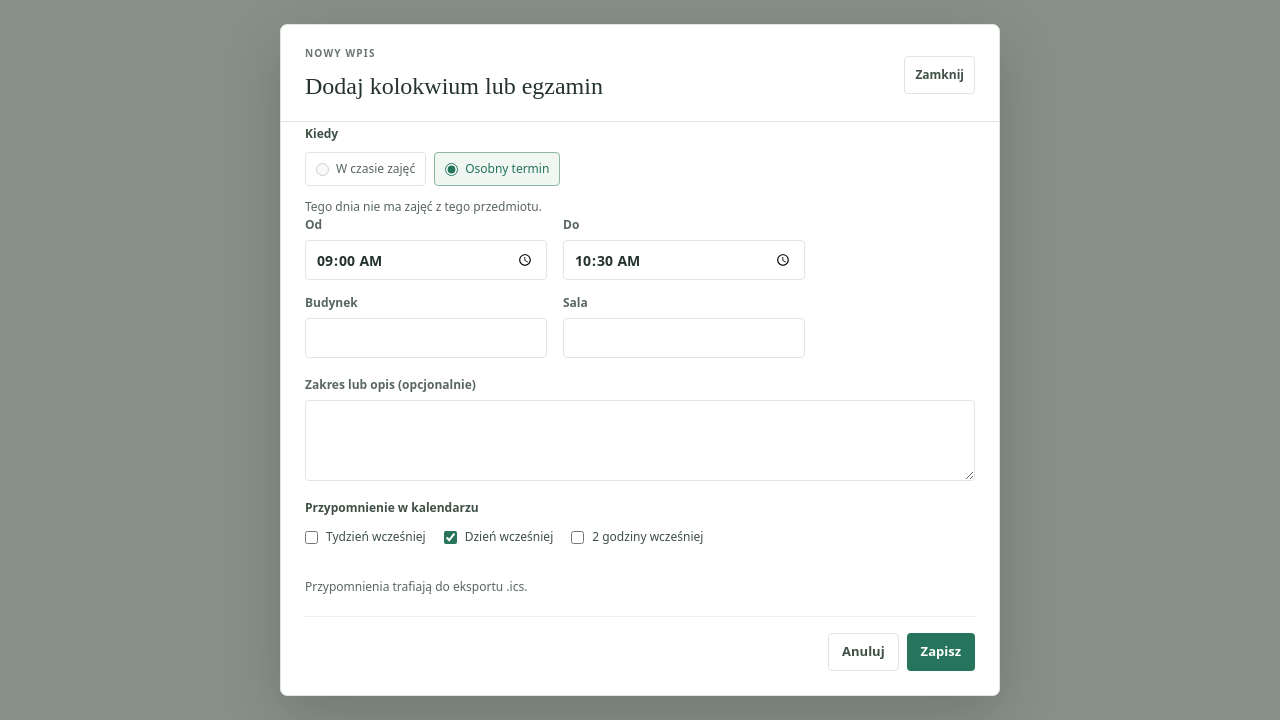
AssessmentForm › shows what is missing instead of saving
(page scrolled)
Click the button "Zapisz": (941, 652) left=907, top=633, right=975, bottom=671
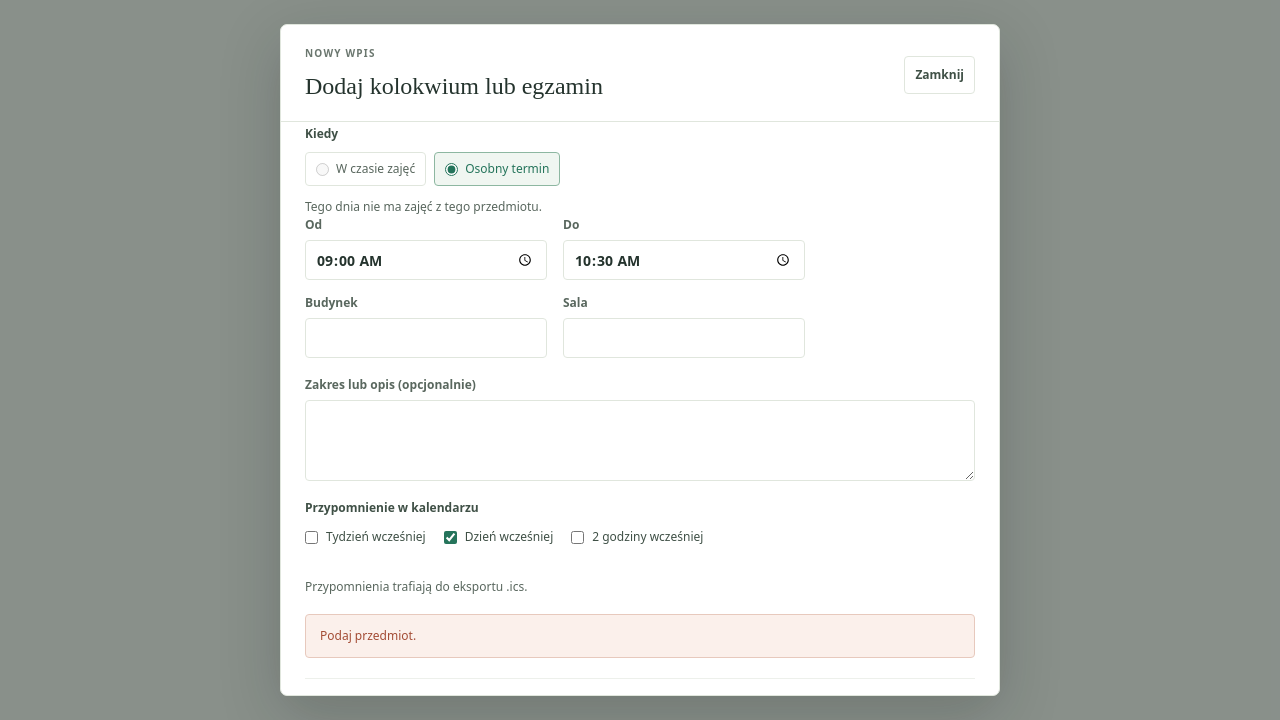
Check: the message reads "Podaj przedmiot.", box left=320, top=627, right=416, bottom=644
